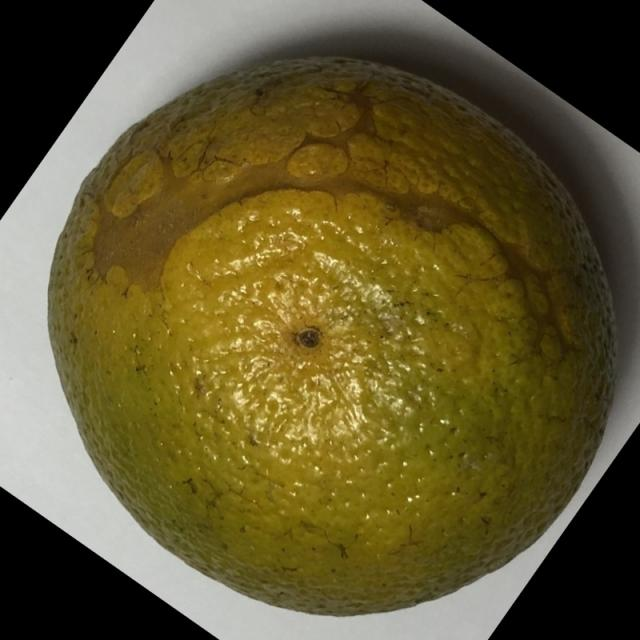canker: (24, 42, 632, 637)
